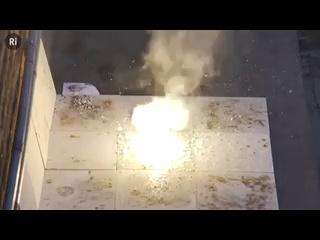Fire: (126, 86, 196, 174)
